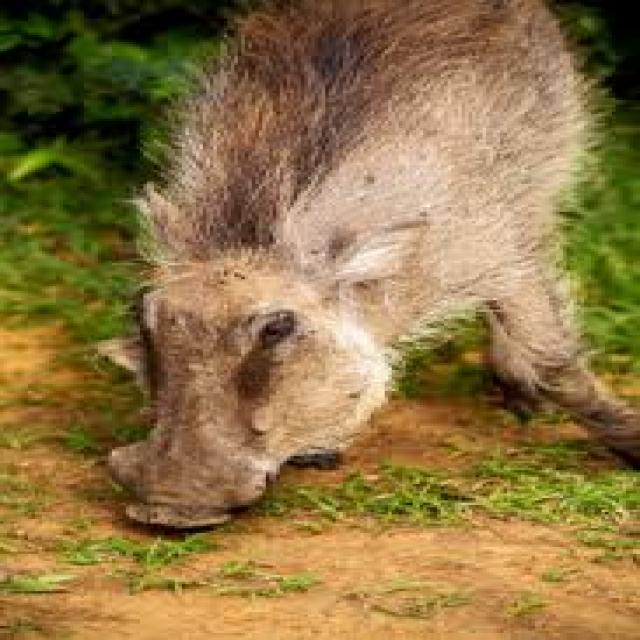boar: (56, 0, 605, 610)
